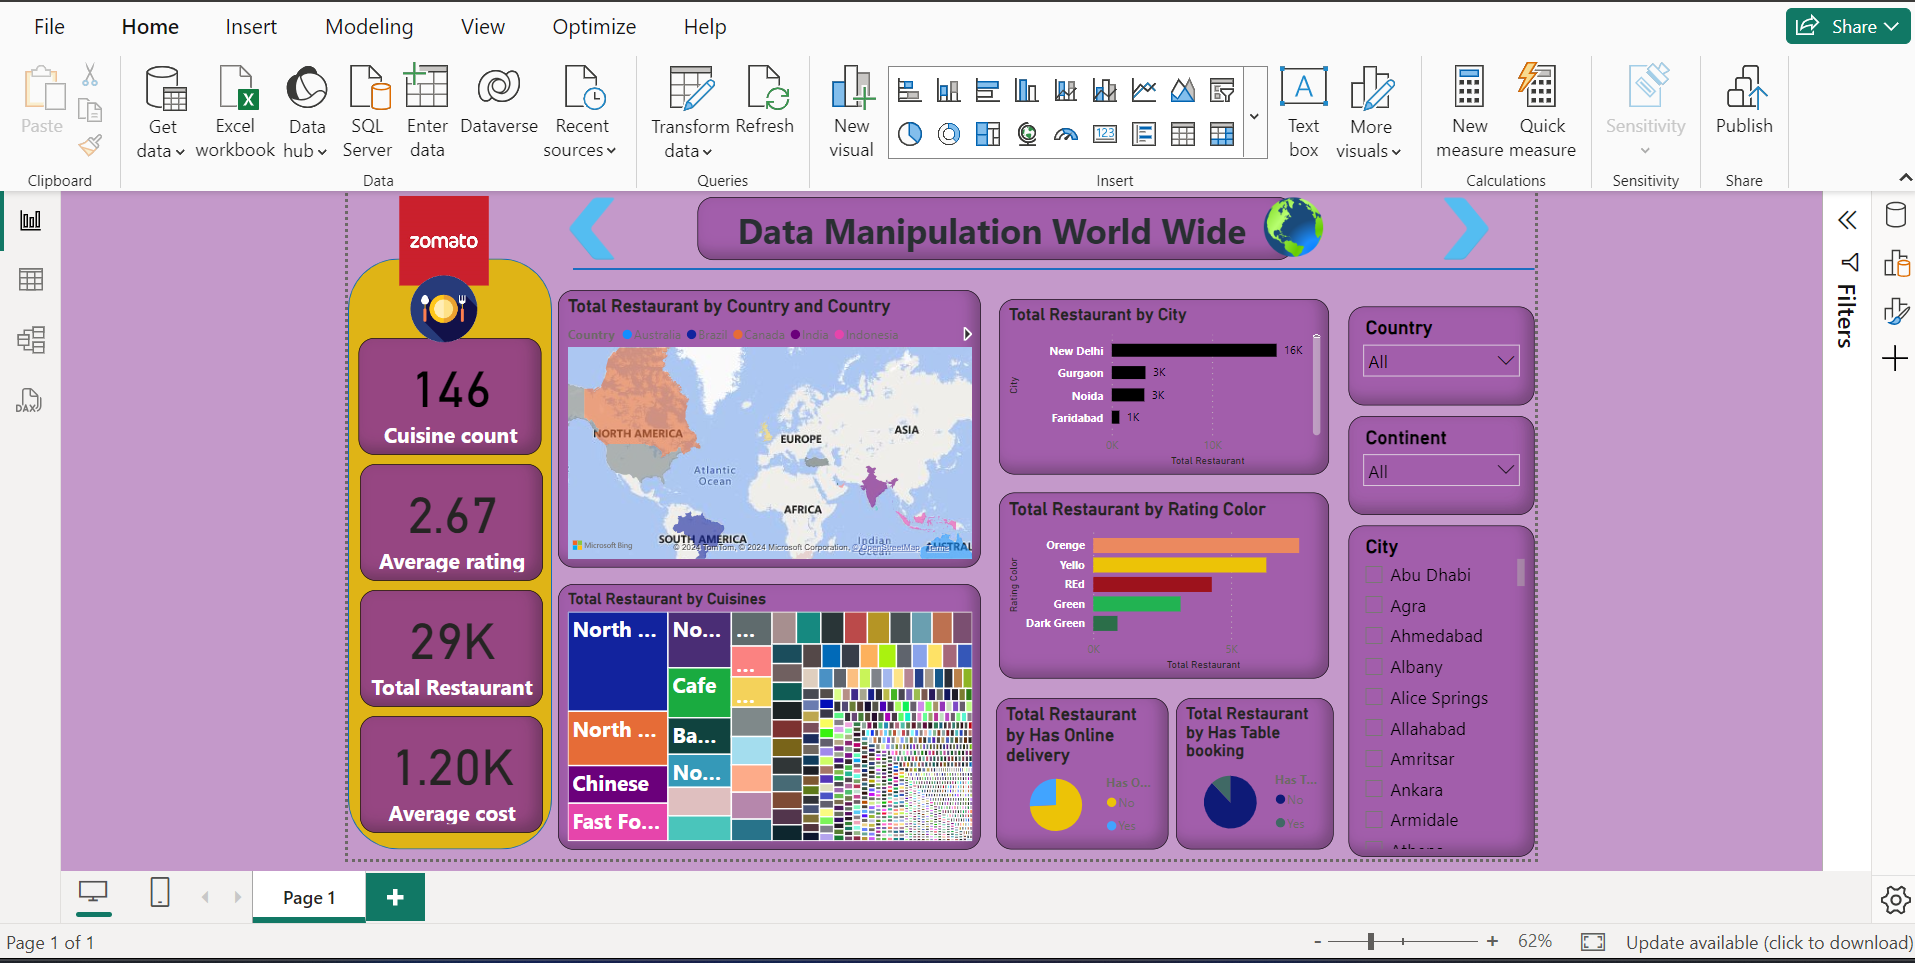

The page's visual inventory and layout, read from the dashboard file:
{"tool":"powerbi","page":{"name":"Page 1","canvas":[1280,720],"ordinal":0},"visuals":[{"type":"shape","box":[0,72.8,220,637.5],"z":0},{"type":"card","fields":{"Values":["Zomato combined (Global).Total Restaurant"]},"box":[12.9,430.4,197.4,126.2],"z":1000},{"type":"card","fields":{"Values":["Cuisines.Cuisine count"]},"box":[11.3,158.6,197.4,126.2],"z":2000},{"type":"card","fields":{"Values":["Fact Table.Average rating"]},"box":[12.9,294.5,197.4,126.2],"z":3000},{"type":"card","fields":{"Values":["Fact Table.Average cost"]},"box":[12.9,565.9,197.4,126.2],"z":4000},{"type":"treemap","fields":{"Values":["Zomato combined (Global).Total Restaurant"],"Group":["Zomato combined (Global).Cuisines"]},"box":[226.5,423.9,456.3,286.4],"z":5000},{"type":"slicer","fields":{"Values":["Country-Code.Country"]},"box":[1079.2,124.6,200.6,106.8],"z":6000},{"type":"slicer","fields":{"Values":["Zomato combined (Global).City"]},"box":[1079.2,360.8,200.6,357.6],"z":7000},{"type":"slicer","fields":{"Values":["Country-Code.Continent"]},"box":[1079.2,242.7,200.6,106.8],"z":8000},{"type":"pieChart","fields":{"Category":["Fact Table.Has Table booking"],"Y":["Zomato combined (Global).Total Restaurant"]},"box":[893.1,546.9,169.9,163.4],"z":9000},{"type":"pieChart","fields":{"Category":["Fact Table.Has Online delivery"],"Y":["Zomato combined (Global).Total Restaurant"]},"box":[699,546.9,186.1,163.4],"z":10000},{"type":"textbox","box":[377,6.5,642.3,68],"z":11000},{"type":"filledMap","fields":{"Category":["Country-Code.Country"],"Series":["Country-Code.Country"]},"box":[226.5,106.8,456.3,299.3],"z":12000},{"type":"image","box":[45.3,0,116.5,106.8],"z":13000},{"type":"clusteredBarChart","fields":{"Category":["Zomato combined (Global).City"],"Y":["Zomato combined (Global).Total Restaurant"]},"box":[702.2,116.5,356,189.3],"z":14000},{"type":"image","box":[935.2,1.6,169.9,74.4],"z":15000},{"type":"clusteredBarChart","fields":{"Category":["Fact Table.Rating Color"],"Y":["Zomato combined (Global).Total Restaurant"]},"box":[702.2,325.2,356,200.6],"z":16000},{"type":"image","box":[53.4,85.8,100.3,82.5],"z":17000},{"type":"shape","box":[242.7,61.5,1037.1,45.3],"z":18000},{"type":"image","box":[1158.5,1.6,95.5,77.7],"z":19000},{"type":"image","box":[220,1.6,85.8,77.7],"z":20000}]}

Visuals, with their boxes on the page's 1280x720 design canvas (x1, y1, x2, y2). These are canvas units, not pixel positions in the 1915x963 screenshot, which may show the page scaled, cropped or inside an application window:
shape: (x1=0, y1=73, x2=220, y2=710)
card - Zomato combined (Global).Total Restaurant: (x1=13, y1=430, x2=210, y2=557)
card - Cuisines.Cuisine count: (x1=11, y1=159, x2=209, y2=285)
card - Fact Table.Average rating: (x1=13, y1=294, x2=210, y2=421)
card - Fact Table.Average cost: (x1=13, y1=566, x2=210, y2=692)
treemap - Zomato combined (Global).Total Restaurant x Zomato combined (Global).Cuisines: (x1=226, y1=424, x2=683, y2=710)
slicer - Country-Code.Country: (x1=1079, y1=125, x2=1280, y2=231)
slicer - Zomato combined (Global).City: (x1=1079, y1=361, x2=1280, y2=718)
slicer - Country-Code.Continent: (x1=1079, y1=243, x2=1280, y2=350)
pieChart - Fact Table.Has Table booking x Zomato combined (Global).Total Restaurant: (x1=893, y1=547, x2=1063, y2=710)
pieChart - Fact Table.Has Online delivery x Zomato combined (Global).Total Restaurant: (x1=699, y1=547, x2=885, y2=710)
textbox: (x1=377, y1=6, x2=1019, y2=74)
filledMap - Country-Code.Country x Country-Code.Country: (x1=226, y1=107, x2=683, y2=406)
image: (x1=45, y1=0, x2=162, y2=107)
clusteredBarChart - Zomato combined (Global).City x Zomato combined (Global).Total Restaurant: (x1=702, y1=116, x2=1058, y2=306)
image: (x1=935, y1=2, x2=1105, y2=76)
clusteredBarChart - Fact Table.Rating Color x Zomato combined (Global).Total Restaurant: (x1=702, y1=325, x2=1058, y2=526)
image: (x1=53, y1=86, x2=154, y2=168)
shape: (x1=243, y1=62, x2=1280, y2=107)
image: (x1=1158, y1=2, x2=1254, y2=79)
image: (x1=220, y1=2, x2=306, y2=79)
